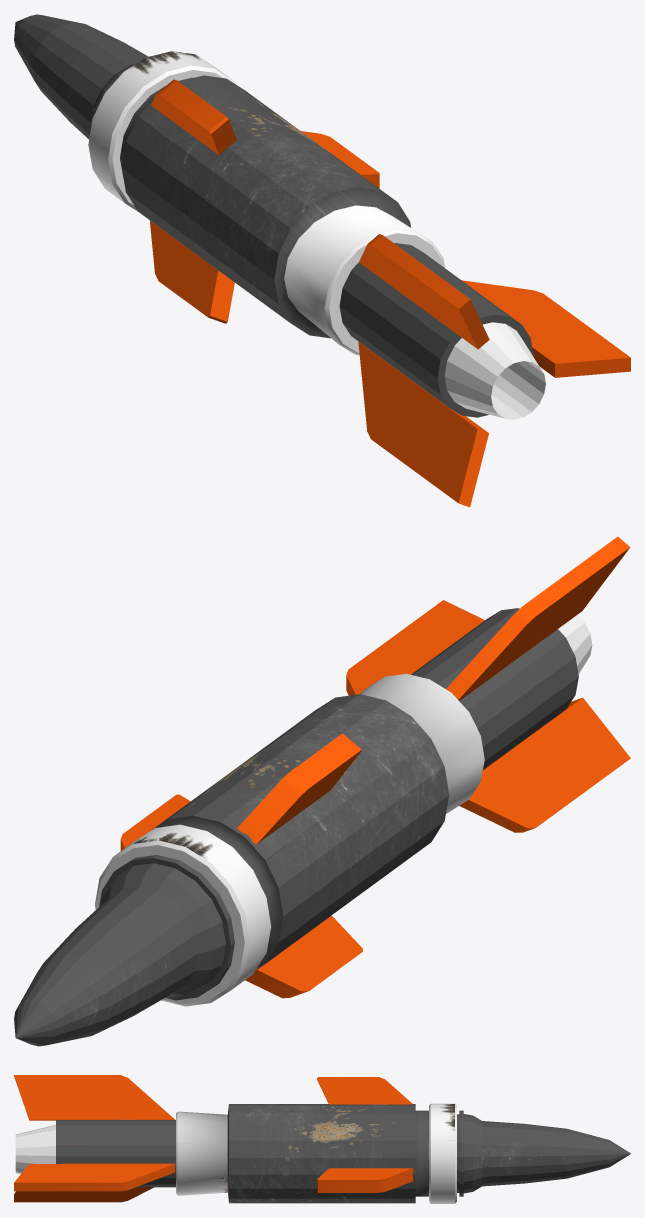
File: rocketbullet.obj
3 views of the same model, one above another, from view 1: azimuth 30°, elevation 25°; view 2: azimuth 150°, elevation 25°; view 3: azimuth 270°, elevation 25° (orthographic). The views are drawn at different scales.
Parts seen in each view (by area): view 1: Cylinder001; view 2: Cylinder001; view 3: Cylinder001.
Part boxes in pixels (box(x1,y1,x2,y2)): Cylinder001: box(14, 14, 630, 507); Cylinder001: box(14, 536, 630, 1046); Cylinder001: box(14, 1075, 630, 1203).
Bounding box in the file's own units: 17.88 × 19.52 × 85.69.
